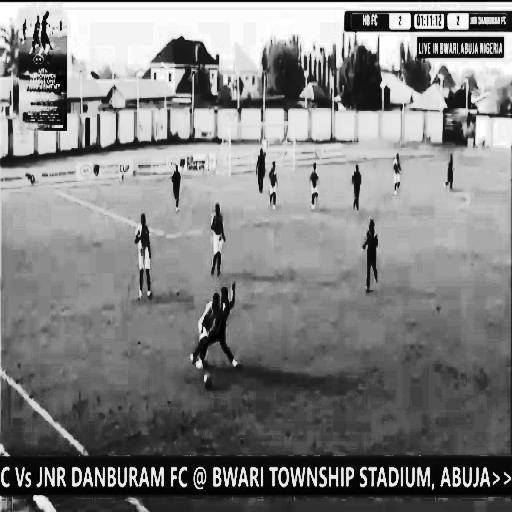ball: (198, 366, 214, 400)
keeper1: (254, 146, 268, 194)
team1: (193, 289, 219, 366), (132, 210, 154, 298), (209, 196, 229, 285), (390, 146, 403, 198), (268, 159, 278, 213), (310, 158, 320, 211)
team2: (216, 288, 239, 365), (360, 223, 381, 292), (350, 156, 364, 216), (170, 158, 184, 216), (445, 153, 456, 195)
